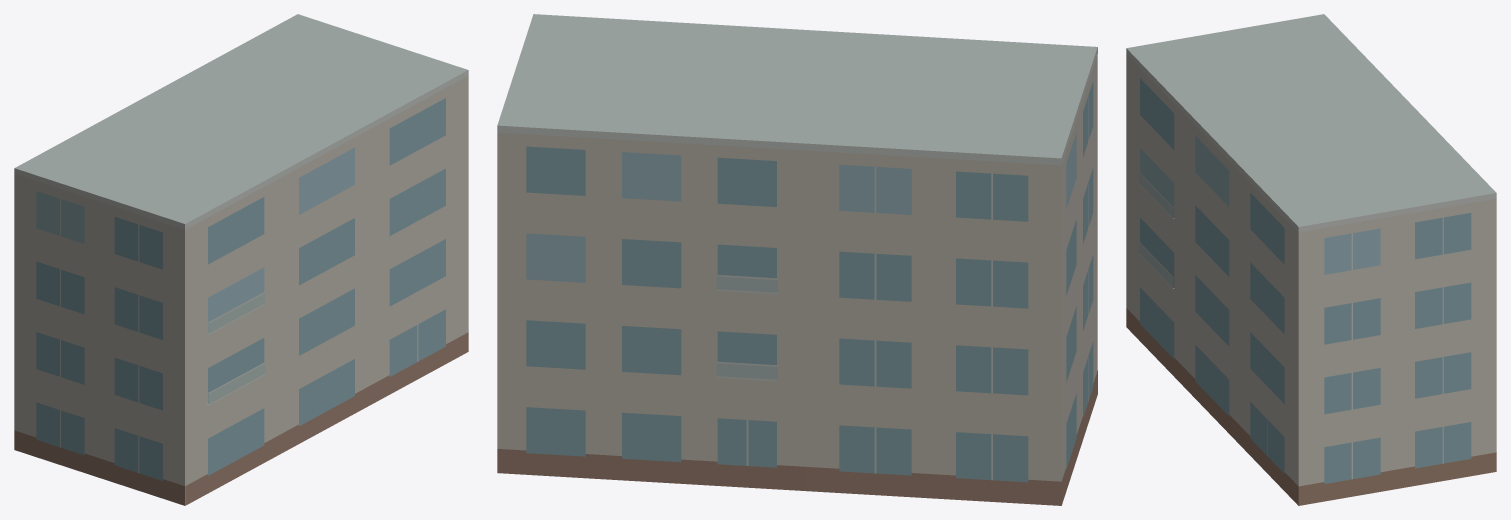
Rendered from residential-6deaf7bf-8366-4182-aa00-f8e946299c70.glb.
The picture shows the model from 3 angles, left to right: view 1: azimuth 30°, elevation 25°; view 2: azimuth 150°, elevation 25°; view 3: azimuth 270°, elevation 25°; orthographic projection. The views are drawn at different scales.
Parts seen in each view (by area): view 1: residential-6deaf7bf-8366-4182-aa00-f8e946299c70.tmp; view 2: residential-6deaf7bf-8366-4182-aa00-f8e946299c70.tmp; view 3: residential-6deaf7bf-8366-4182-aa00-f8e946299c70.tmp.
Part boxes in pixels (<box>): residential-6deaf7bf-8366-4182-aa00-f8e946299c70.tmp: <box>14,14,468,505</box>; residential-6deaf7bf-8366-4182-aa00-f8e946299c70.tmp: <box>497,14,1097,505</box>; residential-6deaf7bf-8366-4182-aa00-f8e946299c70.tmp: <box>1126,14,1496,505</box>.
Size of the model in its own units: 20 by 12.2 by 14.69.
